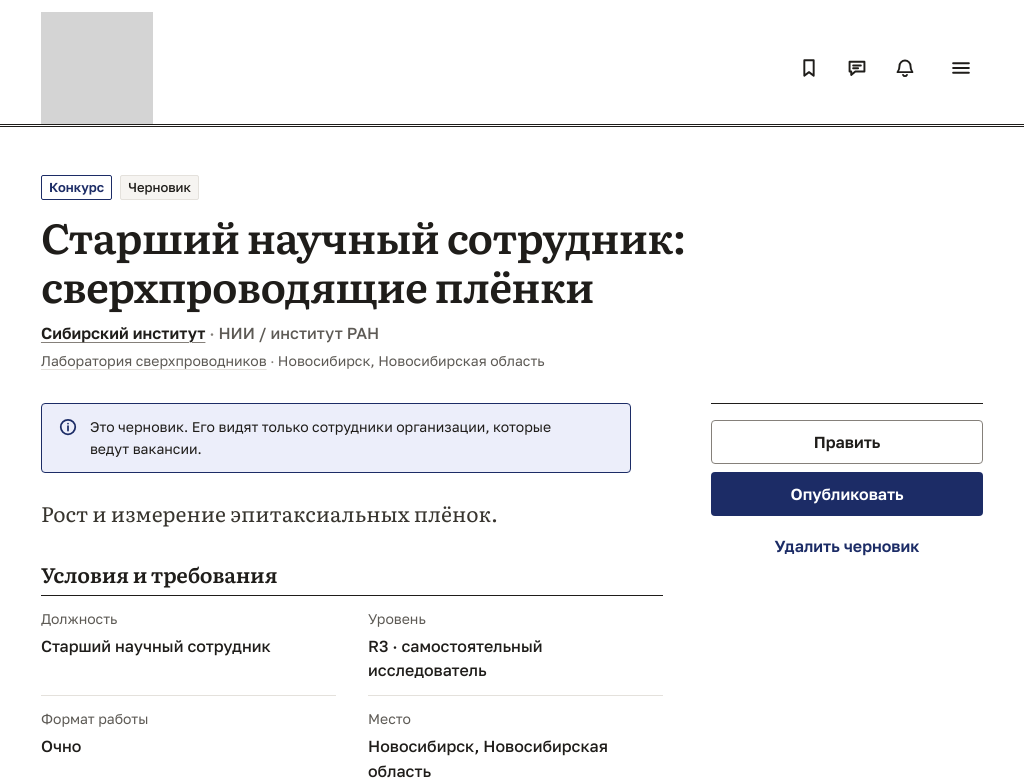
managing a vacancy from its page › names what is missing when the vacancy cannot be published yet, and links to the form
Click the button "Опубликовать" at (847, 494), box [711,472,983,516]
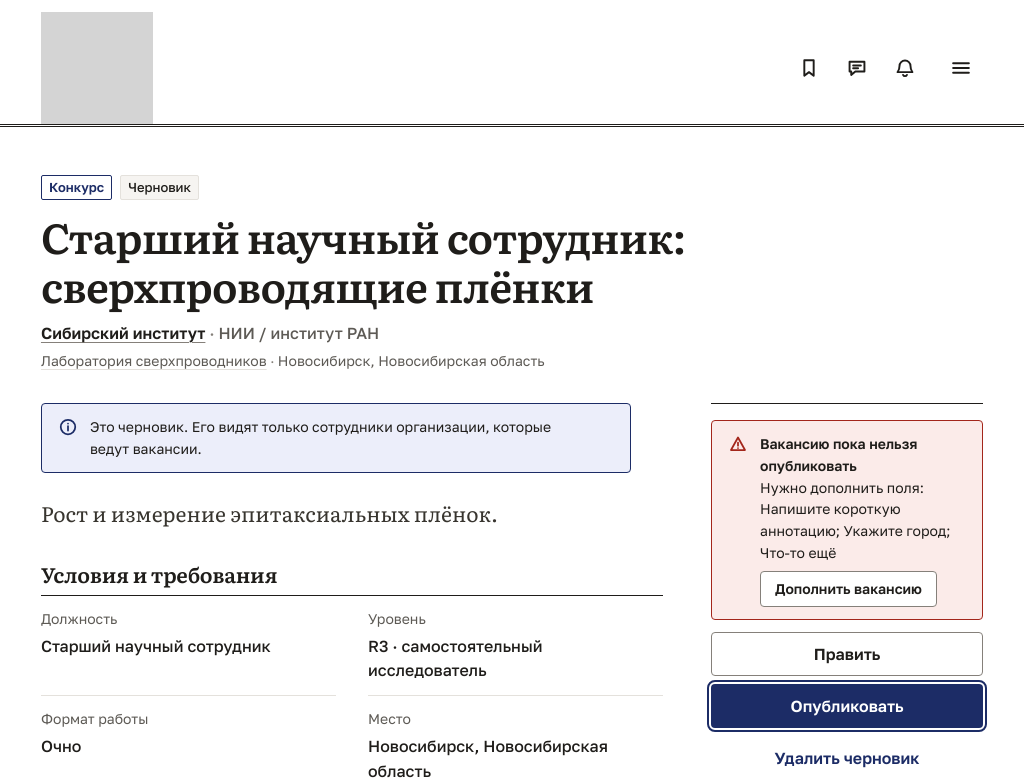
Result: the message that starts with "Вакансию пока нельзя опубликовать" is shown at [760,435,917,474]
Result: the message that starts with "Вакансию пока нельзя опубликовать" shows "Напишите короткую аннотацию; Укажите город; Что-то ещё" at [760,479,950,561]
